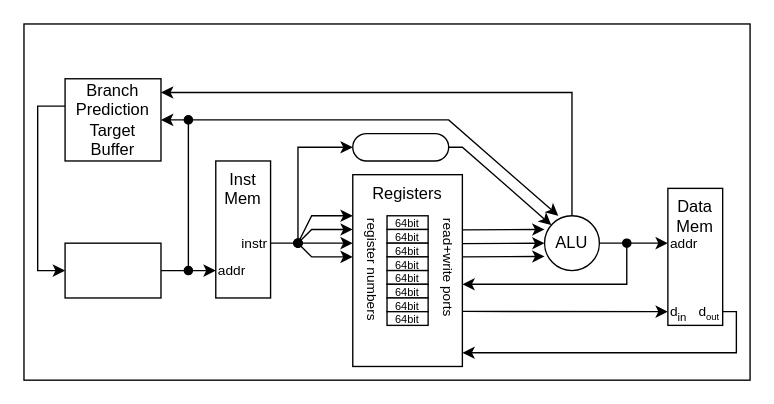
Some shapes in this 774 by 404 pixel diagram are drawn without their labels. The centre of each missing label's shape, as x and y in pixels:
Constants: the point at 400,146
Program Counter: the point at 112,270
